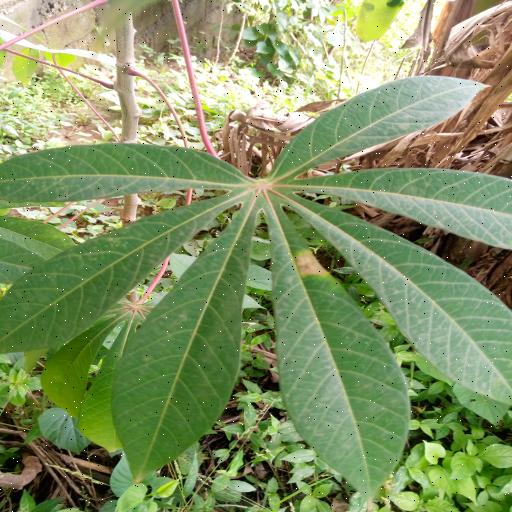Cassava_Brown_Leaf_Spot: (0, 74, 512, 506)
